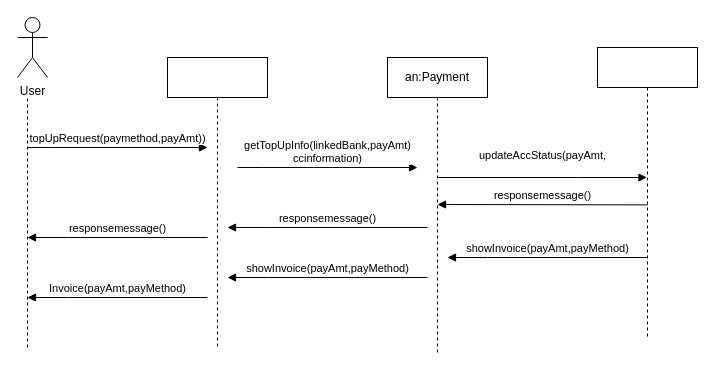
This 715x370 diagram has some shape labels left out. The shapes that lost their labels are listed below. From the top down, each one's box as (x1, y1, x2, y2) in pixels, then its label:
(166, 56, 268, 348): <<boundary>> topupWindow
(596, 46, 698, 338): :PaymentDA
